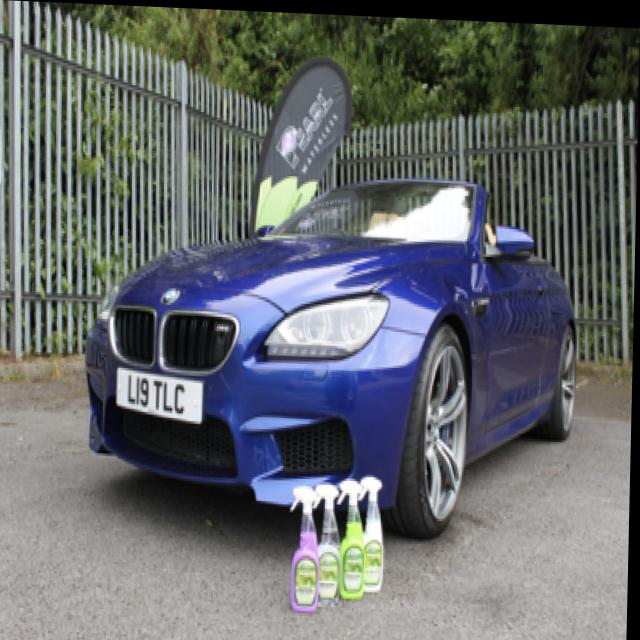licence: (113, 364, 205, 422)
